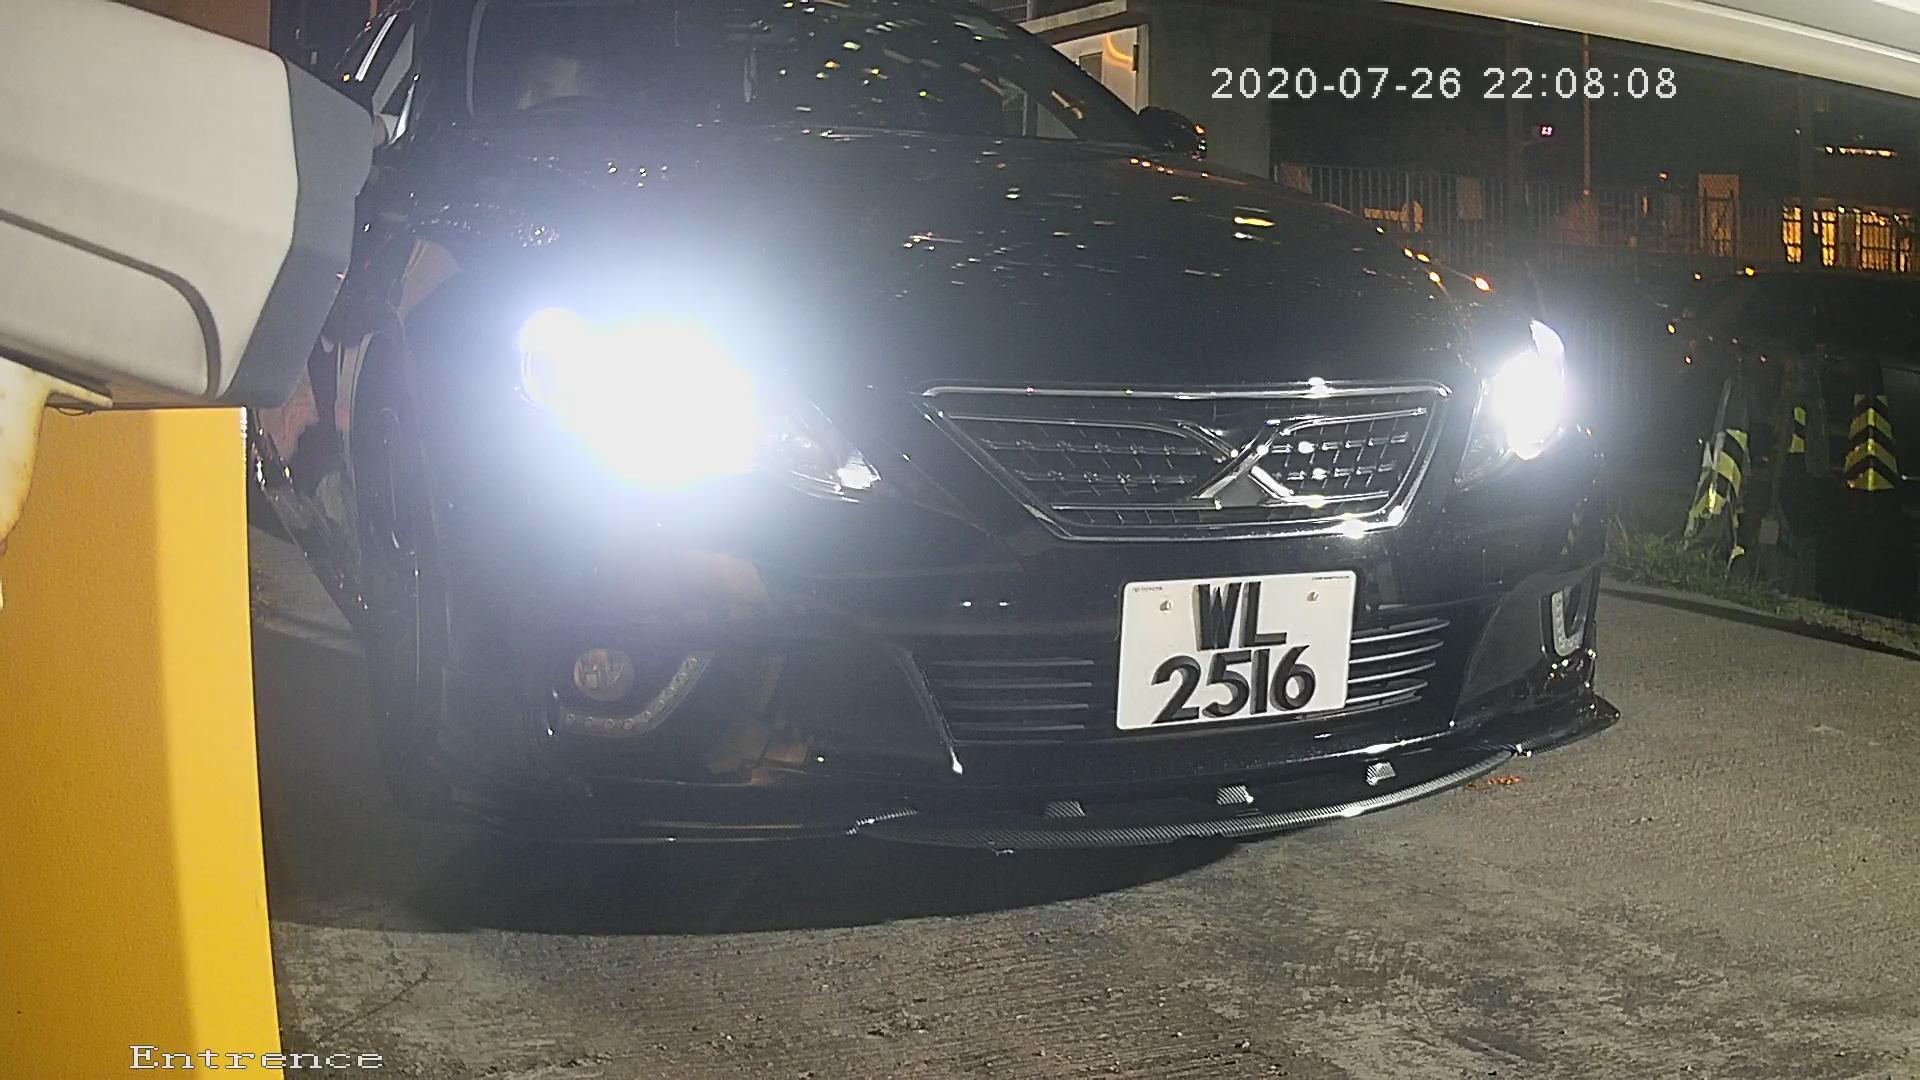Car: (86, 39, 1698, 926)
License Plate: (1089, 555, 1398, 757)
